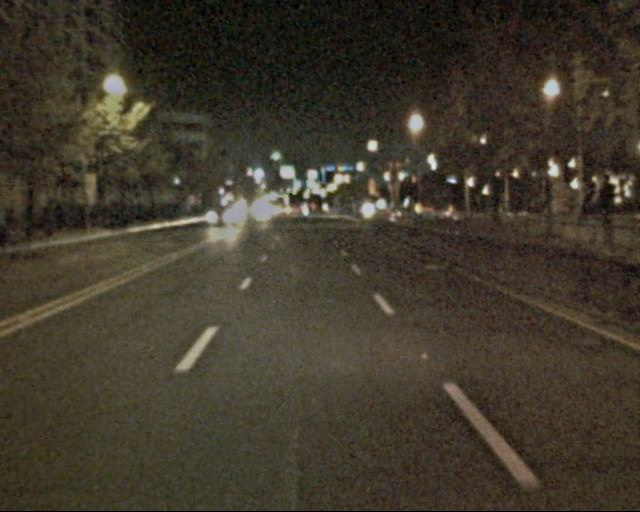person: (579, 175, 619, 246)
